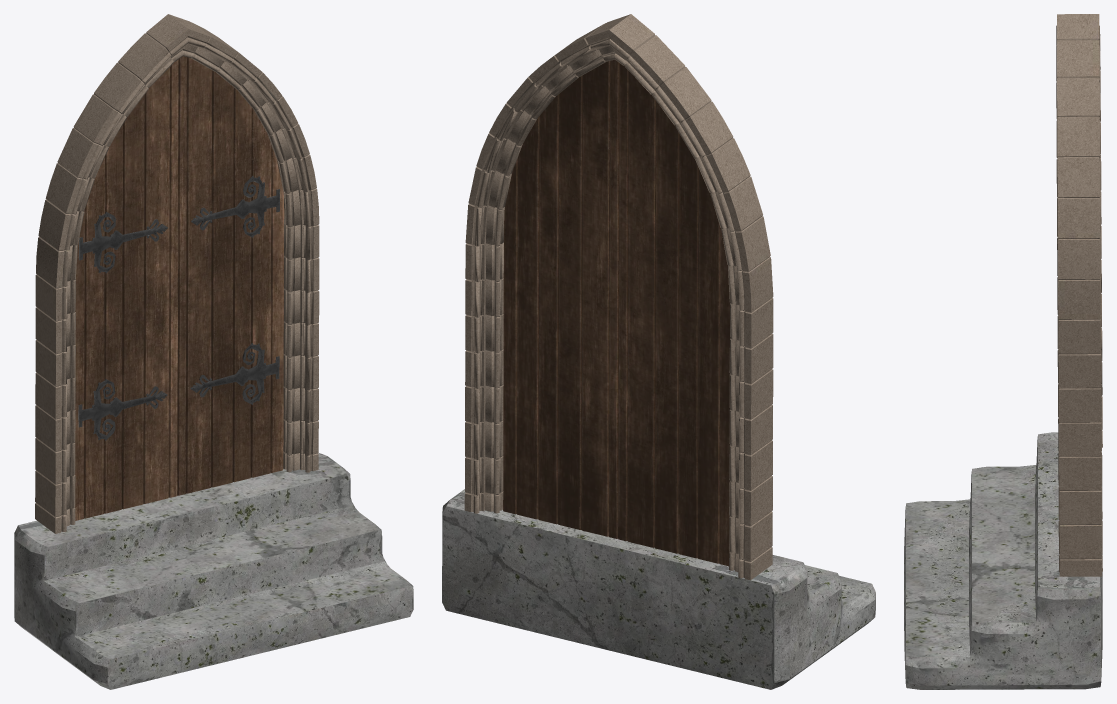
Rendered from gothic_door.glb.
3 renders of one model, left to right at view 1: azimuth 30°, elevation 25°; view 2: azimuth 150°, elevation 25°; view 3: azimuth 270°, elevation 25°, orthographic. The views are drawn at different scales.
Visible parts, largest first — view 1: door_stairs_low_rock_0, door_iron_low_wood_0; view 2: door_iron_low_wood_0, door_stairs_low_rock_0; view 3: door_stairs_low_rock_0.
Boxes of the visible parts, x1,y1,x2,y2 form: door_stairs_low_rock_0: (14,14,413,689); door_iron_low_wood_0: (75,56,284,520); door_iron_low_wood_0: (503,59,730,566); door_stairs_low_rock_0: (442,14,875,689); door_stairs_low_rock_0: (904,14,1102,689).
Size of the model in its own units: 13.63 by 23.37 by 7.03.
2 materials, 2 textured.
